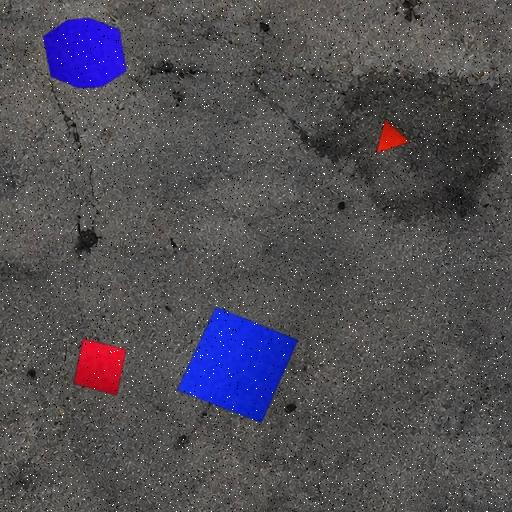BLUE_SQUARE: (176, 306, 299, 424)
RED_SQUARE: (73, 338, 126, 396)
